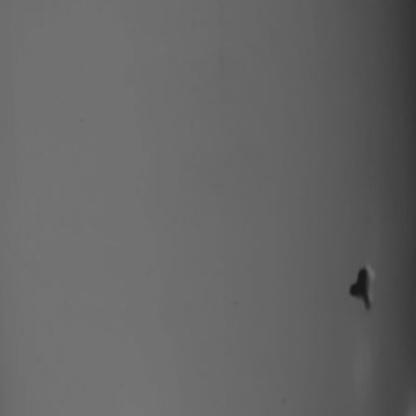kongdong: (337, 257, 383, 315)
